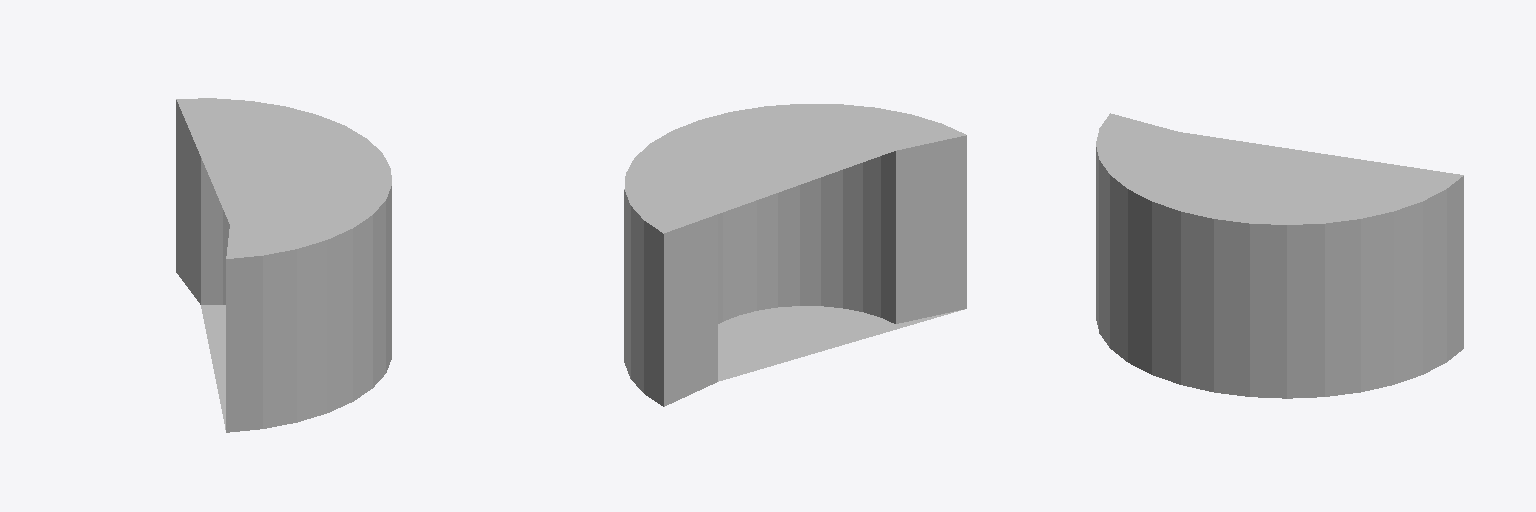
Rendered from solar_flare.obj.
3 views of the same model, side by side, from view 1: azimuth 30°, elevation 25°; view 2: azimuth 150°, elevation 25°; view 3: azimuth 270°, elevation 25° (orthographic).
Visible parts, largest first — view 1: Cylinder.003_Cylinder; view 2: Cylinder.003_Cylinder; view 3: Cylinder.003_Cylinder.
Boxes of the visible parts, x1,y1,x2,y2 form: Cylinder.003_Cylinder: [176, 98, 391, 432]; Cylinder.003_Cylinder: [624, 104, 966, 406]; Cylinder.003_Cylinder: [1096, 113, 1463, 398].
Bounding box in the file's own units: 1.38 × 1 × 1.92.